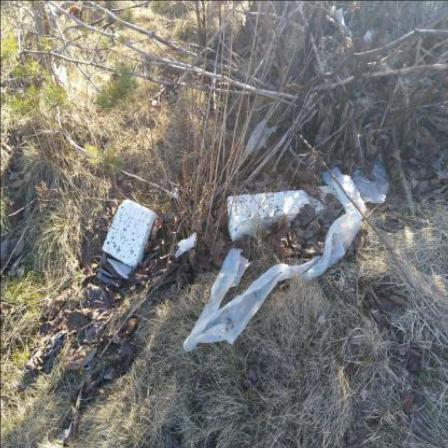Other plastic: (109, 259, 137, 279)
Plastic bag - wrapper: (185, 169, 367, 353), (352, 156, 390, 205), (245, 120, 281, 158), (175, 233, 197, 259), (335, 9, 349, 32), (364, 33, 372, 45)
Styrofoam piece: (228, 186, 340, 242), (104, 200, 160, 268)
